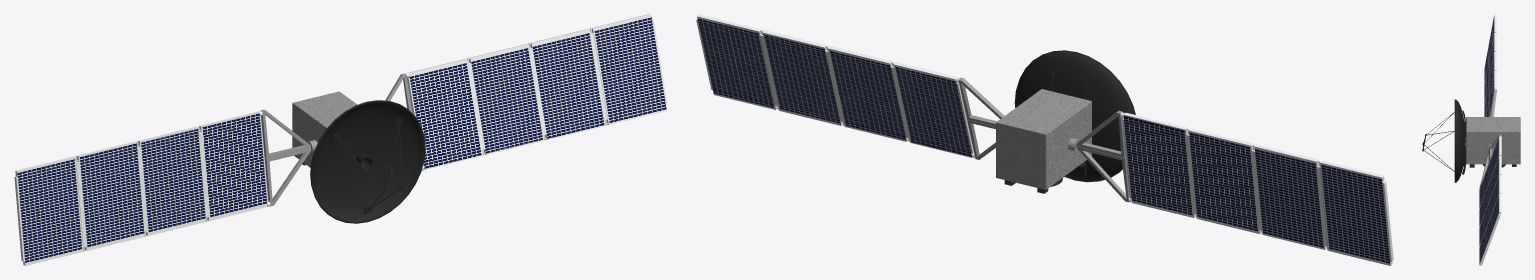
The model's file is satellite.obj.
3 renders of one model, left to right at view 1: azimuth 30°, elevation 25°; view 2: azimuth 150°, elevation 25°; view 3: azimuth 270°, elevation 25°, orthographic. The views are drawn at different scales.
Parts seen in each view (by area): view 1: Cylinder.000, right_wing_Cylinder.022, dish_Cylinder.016, main_Cube.010, right_wing_holder_Cylinder.001; view 2: right_wing_Cylinder.022, Cylinder.000, main_Cube.010, dish_Cylinder.016, right_wing_holder_Cylinder.001, Cylinder.001_Cylinder.002; view 3: main_Cube.010, Cylinder.000, dish_Cylinder.016, right_wing_Cylinder.022, Cylinder.001_Cylinder.002, right_wing_holder_Cylinder.001.
Boxes of the visible parts, left/top/right/bottom form: Cylinder.000: left=405, top=14, right=667, bottom=170; right_wing_Cylinder.022: left=14, top=111, right=270, bottom=265; dish_Cylinder.016: left=310, top=100, right=425, bottom=223; main_Cube.010: left=292, top=91, right=357, bottom=167; right_wing_holder_Cylinder.001: left=260, top=109, right=317, bottom=206; right_wing_Cylinder.022: left=1120, top=112, right=1393, bottom=265; Cylinder.000: left=696, top=14, right=975, bottom=157; main_Cube.010: left=996, top=89, right=1091, bottom=193; dish_Cylinder.016: left=1014, top=50, right=1135, bottom=182; right_wing_holder_Cylinder.001: left=1068, top=110, right=1129, bottom=202; Cylinder.001_Cylinder.002: left=958, top=77, right=1004, bottom=159; main_Cube.010: left=1466, top=117, right=1520, bottom=167; Cylinder.000: left=1479, top=136, right=1501, bottom=265; dish_Cylinder.016: left=1422, top=99, right=1465, bottom=182; right_wing_Cylinder.022: left=1484, top=14, right=1496, bottom=116; Cylinder.001_Cylinder.002: left=1479, top=134, right=1501, bottom=188; right_wing_holder_Cylinder.001: left=1489, top=89, right=1496, bottom=116.
Size of the model in its own units: 27.14 by 4.87 by 5.72.
